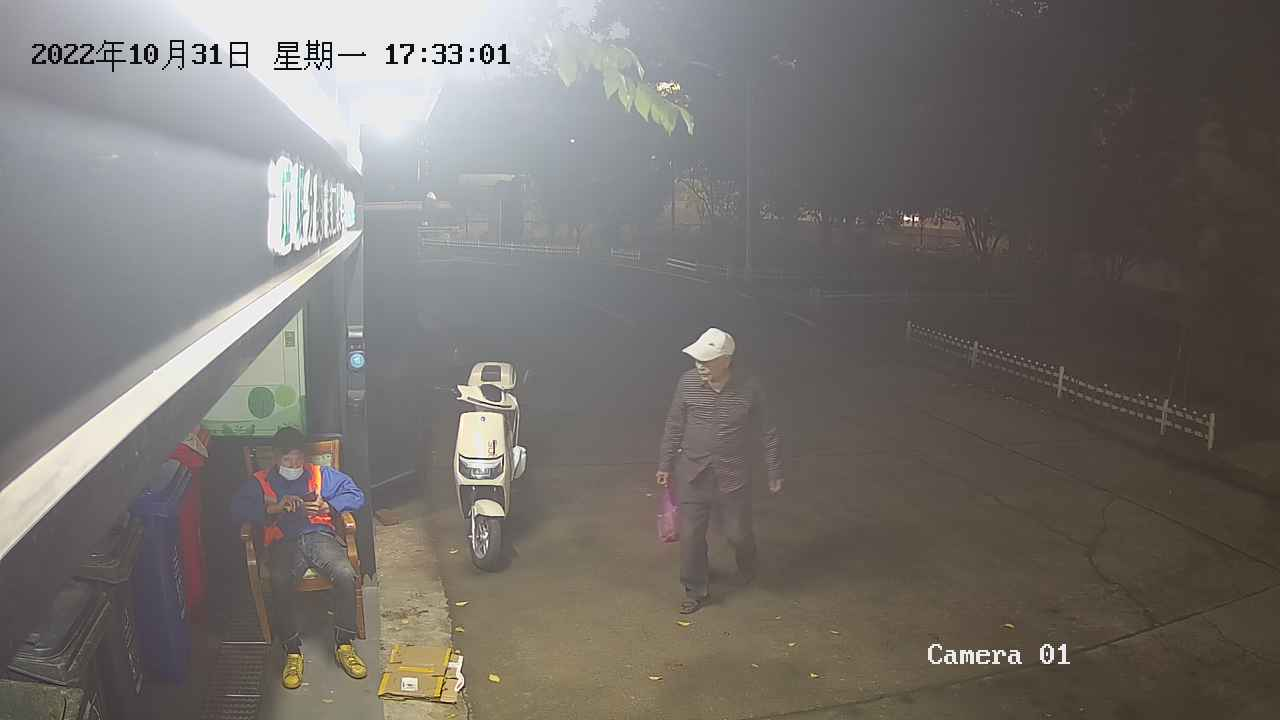garbage-bag: (655, 476, 682, 547)
person: (653, 325, 788, 617)
worker: (227, 426, 370, 691)
zhizhipin: (376, 640, 466, 707)
